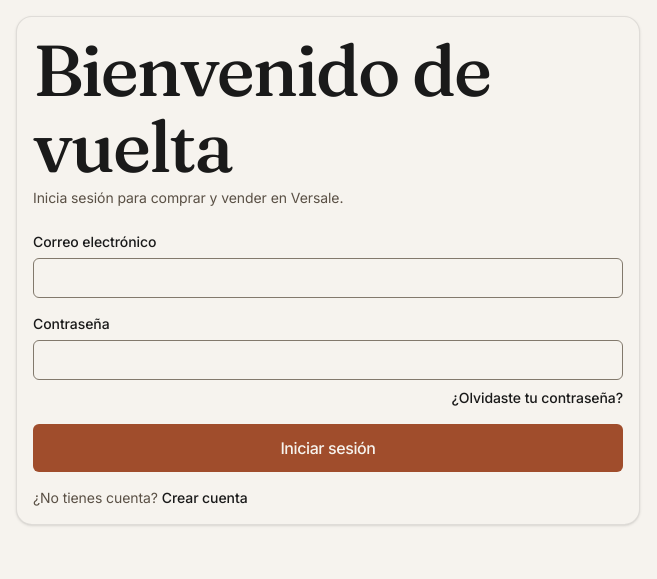
it: LoginPage › muestra un mensaje de error si el inicio de sesión falla
Type "alice@ejemplo.co" into the field labelled "Correo electrónico" at (328, 278), box [33,258,623,298]
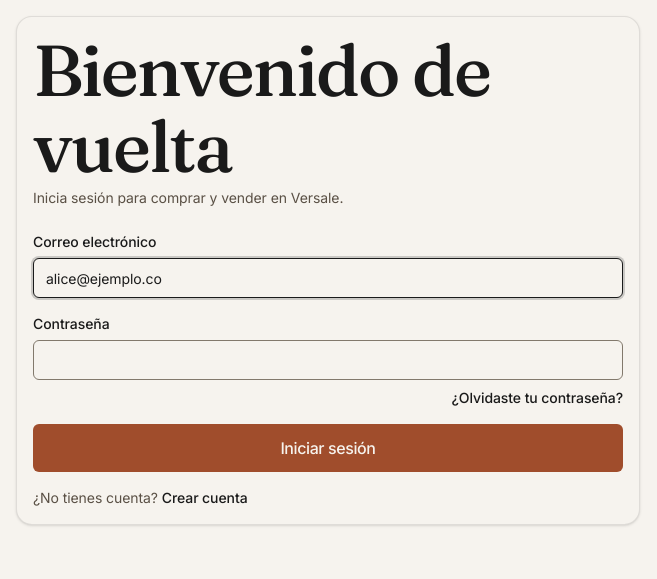
Type "incorrecta" into the password field labelled "Contraseña" at (328, 360), box [33,340,623,380]
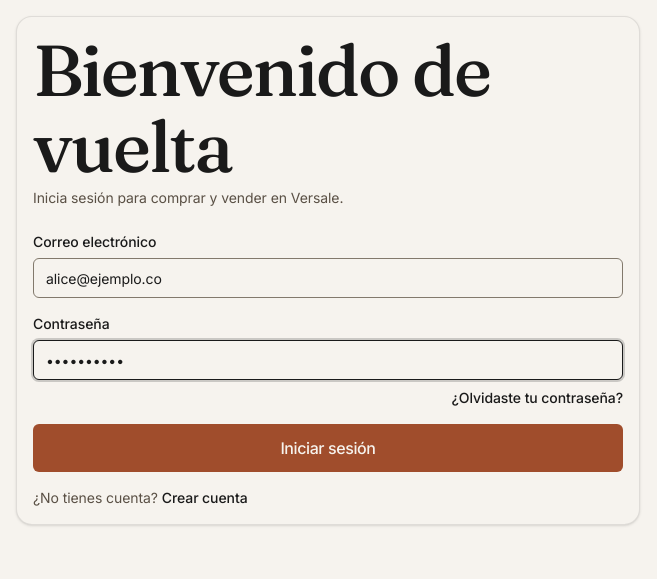
Click the button "Iniciar sesión" at (328, 448), box [33,424,623,472]
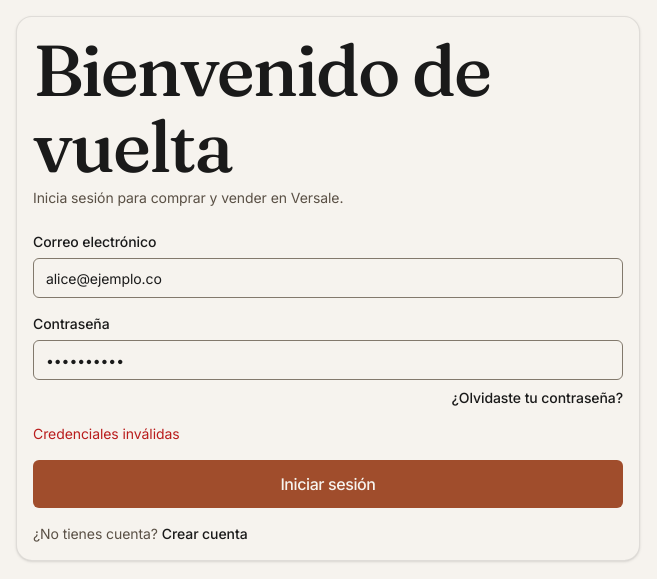
Now the text "Credenciales inválidas" is shown, box [33,425,180,442]
